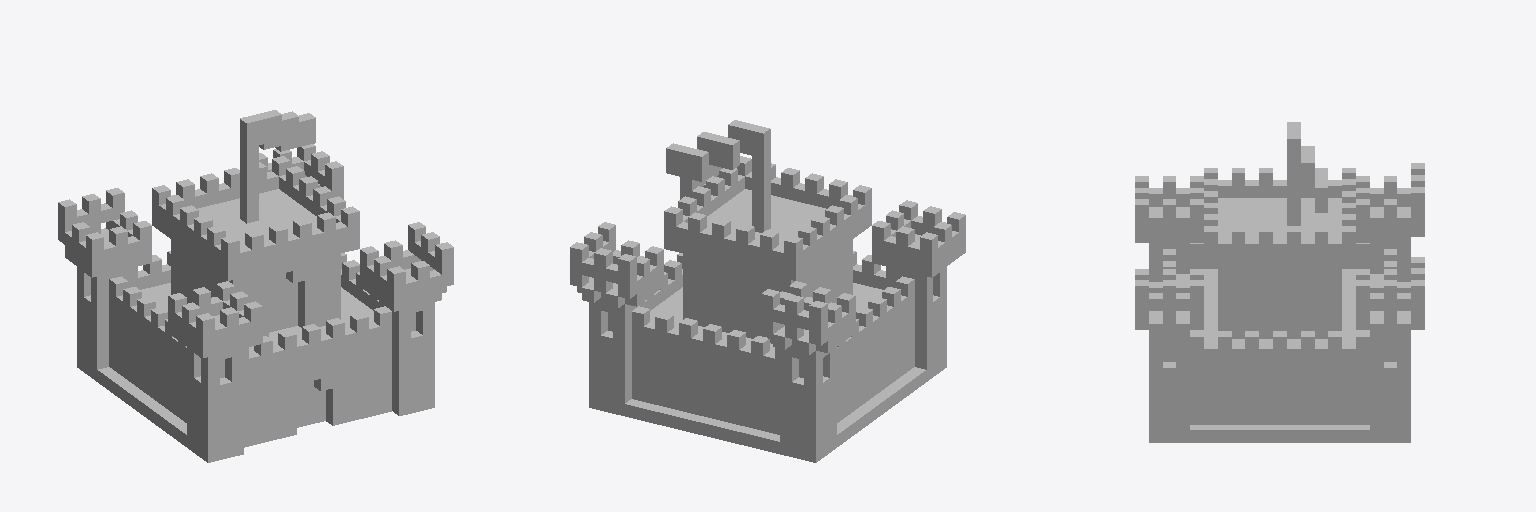
Rendered from castle.obj.
The picture shows the model from 3 angles: view 1: azimuth 30°, elevation 25°; view 2: azimuth 150°, elevation 25°; view 3: azimuth 270°, elevation 25°; orthographic projection.
Visible parts, largest first — view 1: object 1; view 2: object 1; view 3: object 1.
Part boxes in pixels (x1,y1,x2,y2): object 1: (58,110,453,462); object 1: (570,120,965,462); object 1: (1135,122,1424,442).
Bounding box in the file's own units: 2.1 × 2.1 × 2.1.